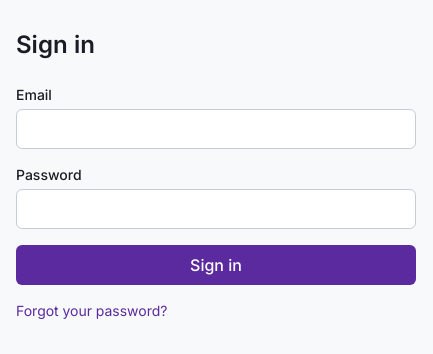
LoginScreen (HRD-14) › shows a generic error on an unexpected server failure
The image size is (433, 354).
Type "owner@testco.example" into the field labelled "Email" at (216, 129), box [16, 109, 416, 149]
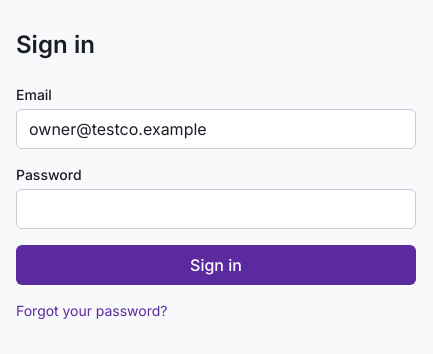
Type "InitialPassword1!" into the password field labelled "Password" at (216, 209), box [16, 189, 416, 229]
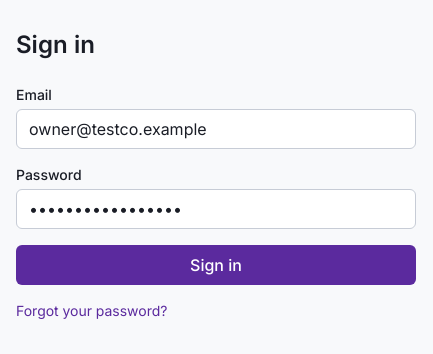
Click the button "Sign in" at (216, 265), box [16, 245, 416, 285]
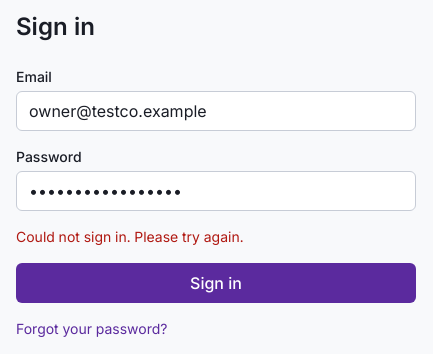
Expected: the message shows "Could not sign in", [16, 228, 244, 245]
